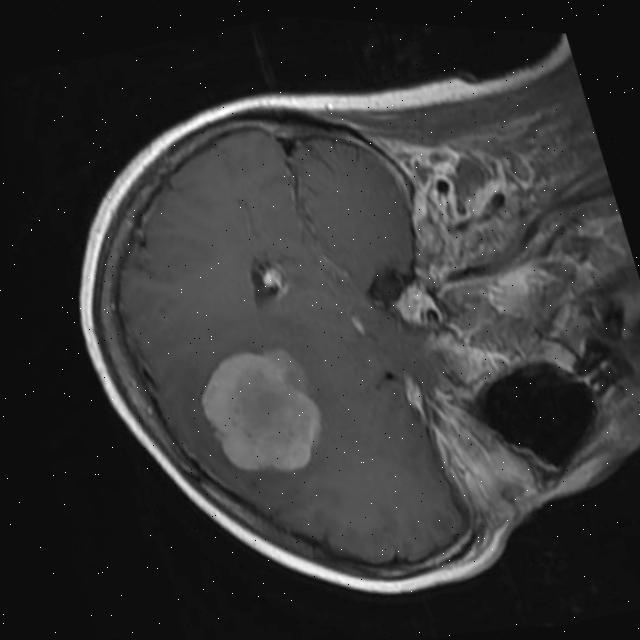Meningioma: (181, 327, 340, 495)
